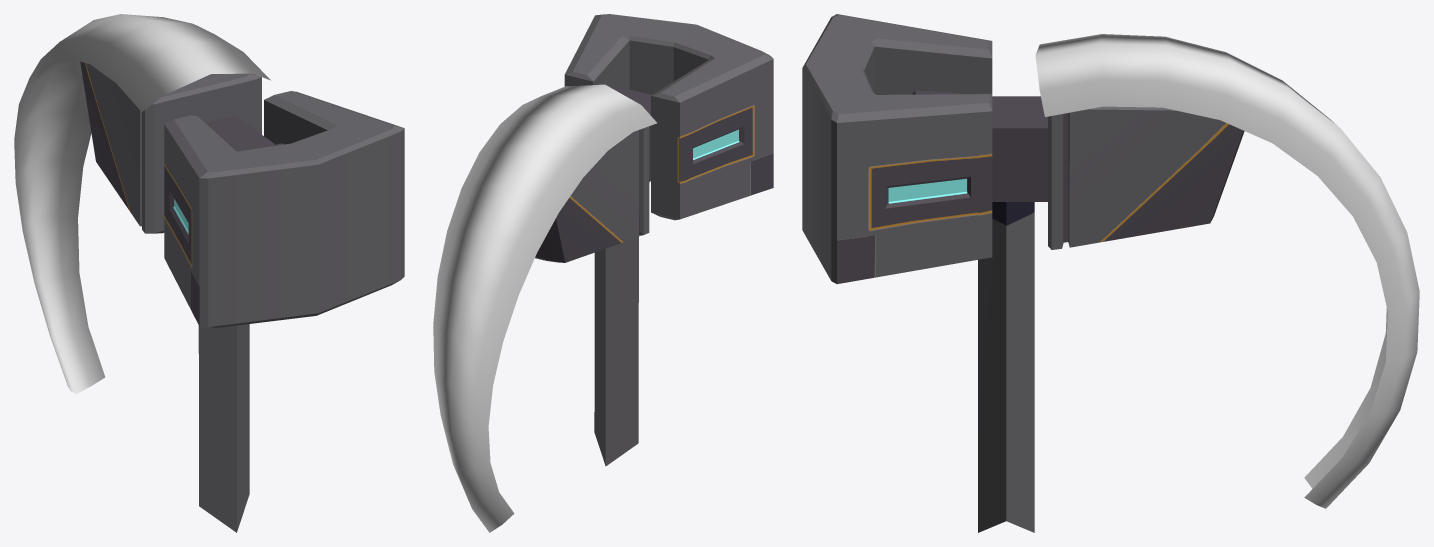
File: chuizi_daoguang01.FBX
The picture shows the model from 3 angles, left to right: view 1: azimuth 30°, elevation 25°; view 2: azimuth 150°, elevation 25°; view 3: azimuth 270°, elevation 25°; orthographic projection. The views are drawn at different scales.
Parts seen in each view (by area): view 1: Chariot03_tiechui02, banyuandaoguang007; view 2: Chariot03_tiechui02, banyuandaoguang007; view 3: Chariot03_tiechui02, banyuandaoguang007.
Boxes of the visible parts, box(x1,y1,x2,y2) form: Chariot03_tiechui02: box(80, 61, 404, 532); banyuandaoguang007: box(14, 14, 270, 393); Chariot03_tiechui02: box(535, 14, 773, 466); banyuandaoguang007: box(433, 84, 657, 532); Chariot03_tiechui02: box(802, 14, 1244, 532); banyuandaoguang007: box(1035, 34, 1419, 508).
Size of the model in its own units: 79.94 by 167 by 191.
